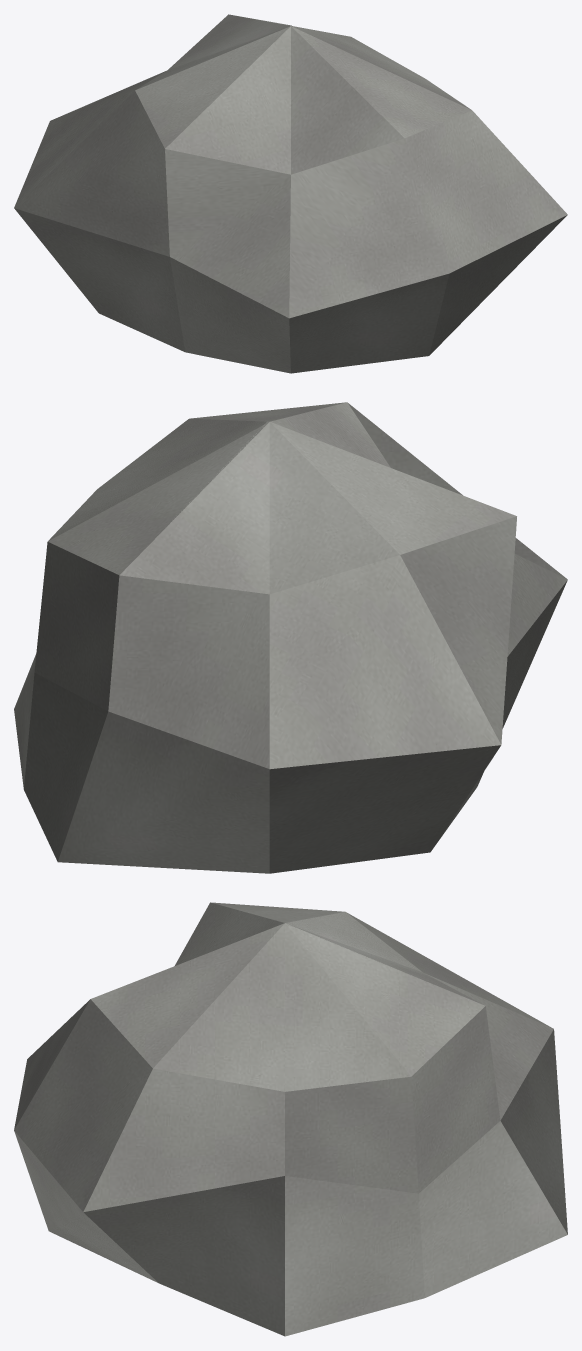
Rendered from rock_v4.glb.
3 views of the same model, one above another, from view 1: azimuth 30°, elevation 25°; view 2: azimuth 150°, elevation 25°; view 3: azimuth 270°, elevation 25° (orthographic). The views are drawn at different scales.
Parts seen in each view (by area): view 1: Variant_rock_4; view 2: Variant_rock_4; view 3: Variant_rock_4.
Part boxes in pixels (x1=…): Variant_rock_4: x1=14, y1=14, x2=567, y2=373; Variant_rock_4: x1=14, y1=402, x2=567, y2=873; Variant_rock_4: x1=14, y1=902, x2=567, y2=1336.
Bounding box in the file's own units: 0.9855 × 0.6 × 0.9885.
Materials: 1 (1 with a texture image).
